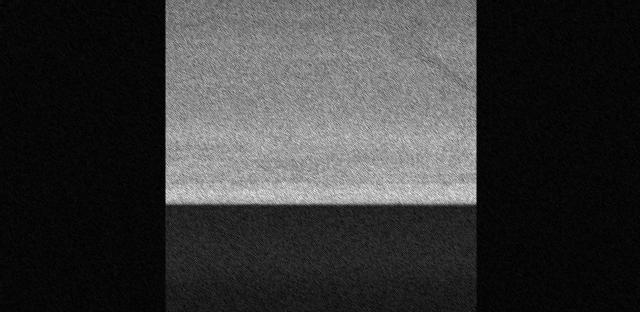water_spot: (373, 0, 476, 100)
